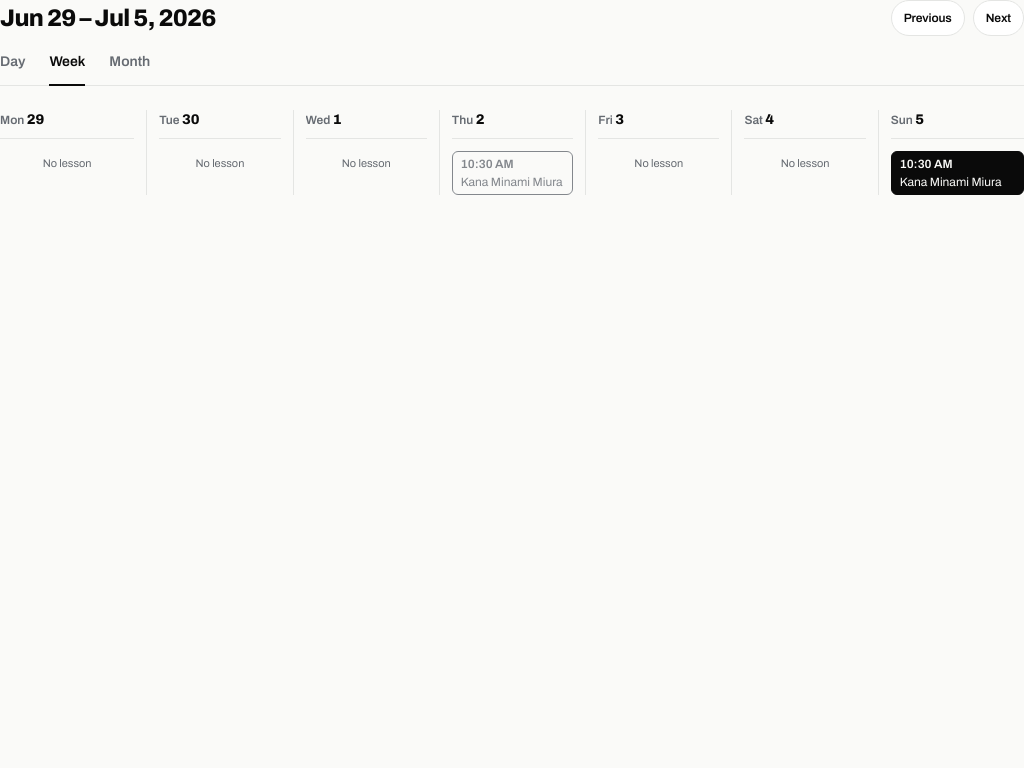
Test case: DashboardScheduleCalendar › opens a past lesson in place, with what the history page shows for it
Click the button "Month": [130, 67] box [109,48,150,86]
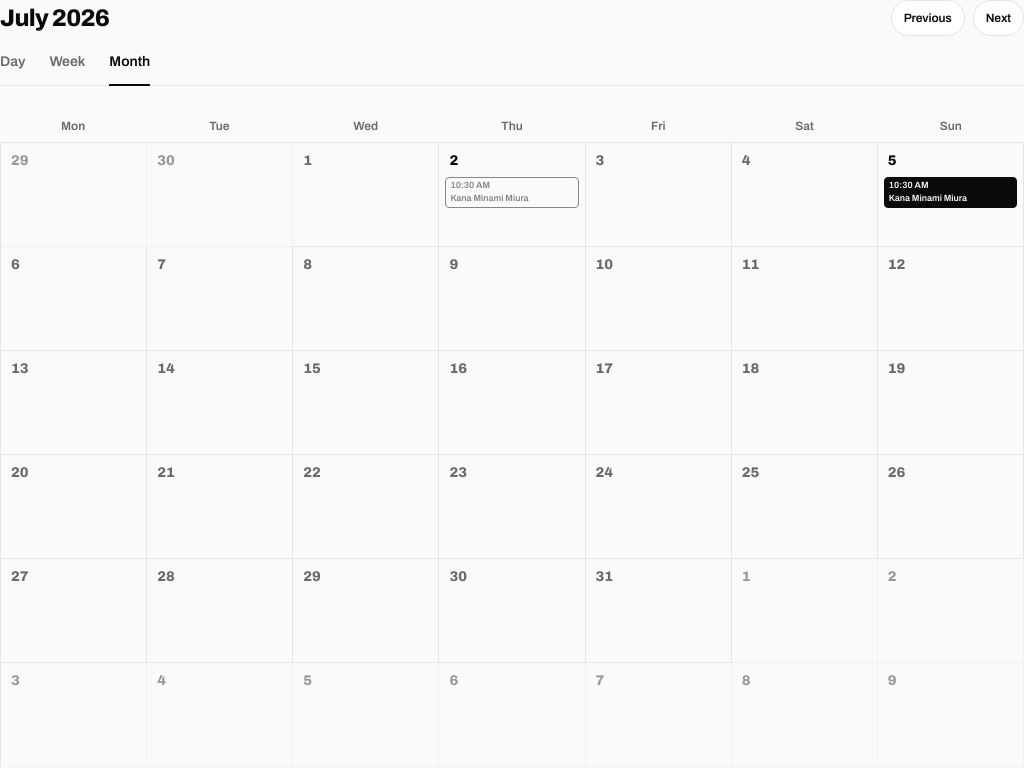
Click the button with test id "schedule-chip": [512, 192] box [445,177,578,208]
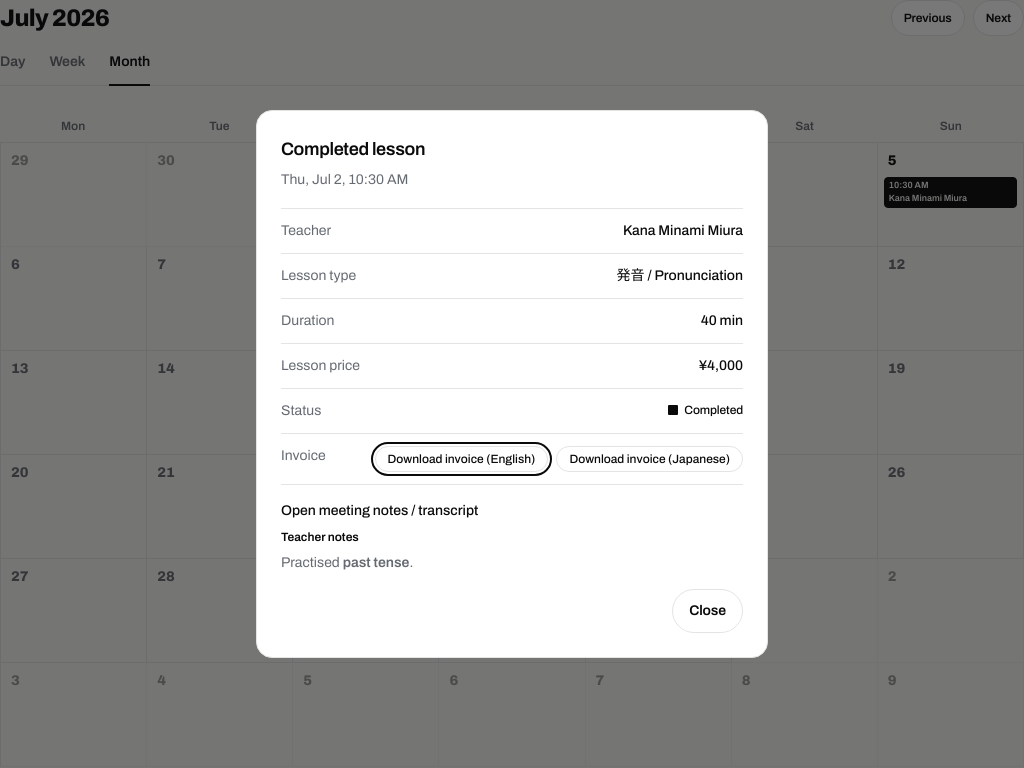
Expected: the heading "Completed lesson" is shown, [281,139,425,159]
Expected: the text "past tense" is shown, [343,555,409,570]
Expected: the link "Download invoice (English)" is shown, [374,446,548,472]
